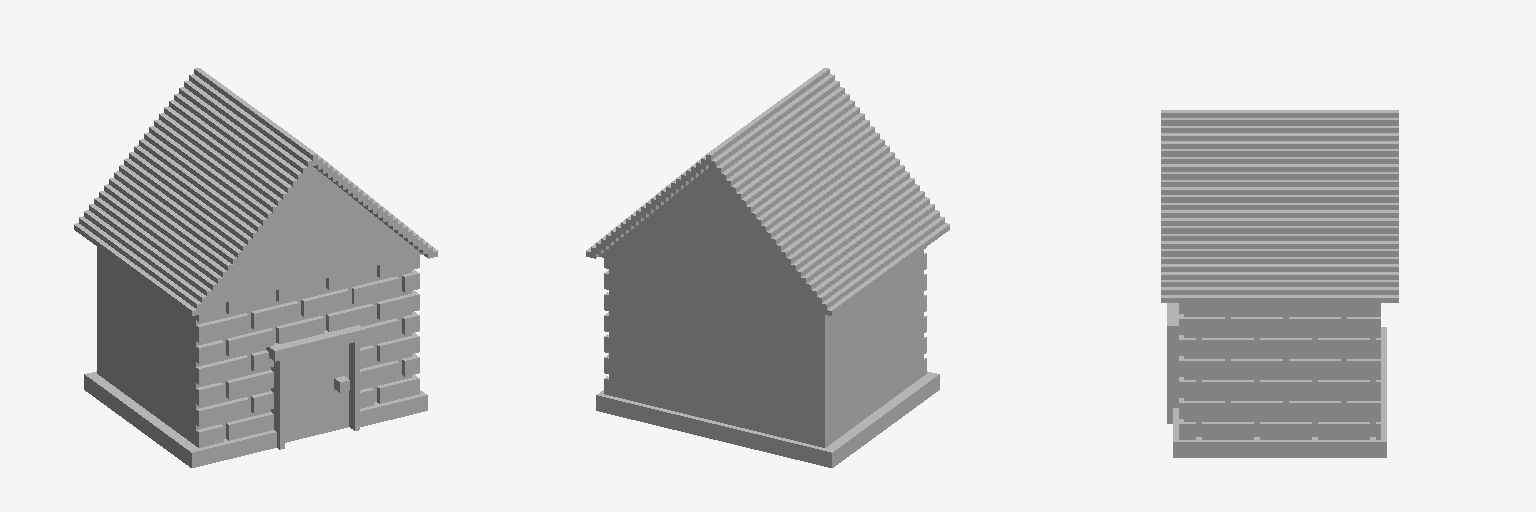
File: House.obj
3 renders of one model, left to right at view 1: azimuth 30°, elevation 25°; view 2: azimuth 150°, elevation 25°; view 3: azimuth 270°, elevation 25°, orthographic.
Bounding box in the file's own units: 49 × 55 × 41.